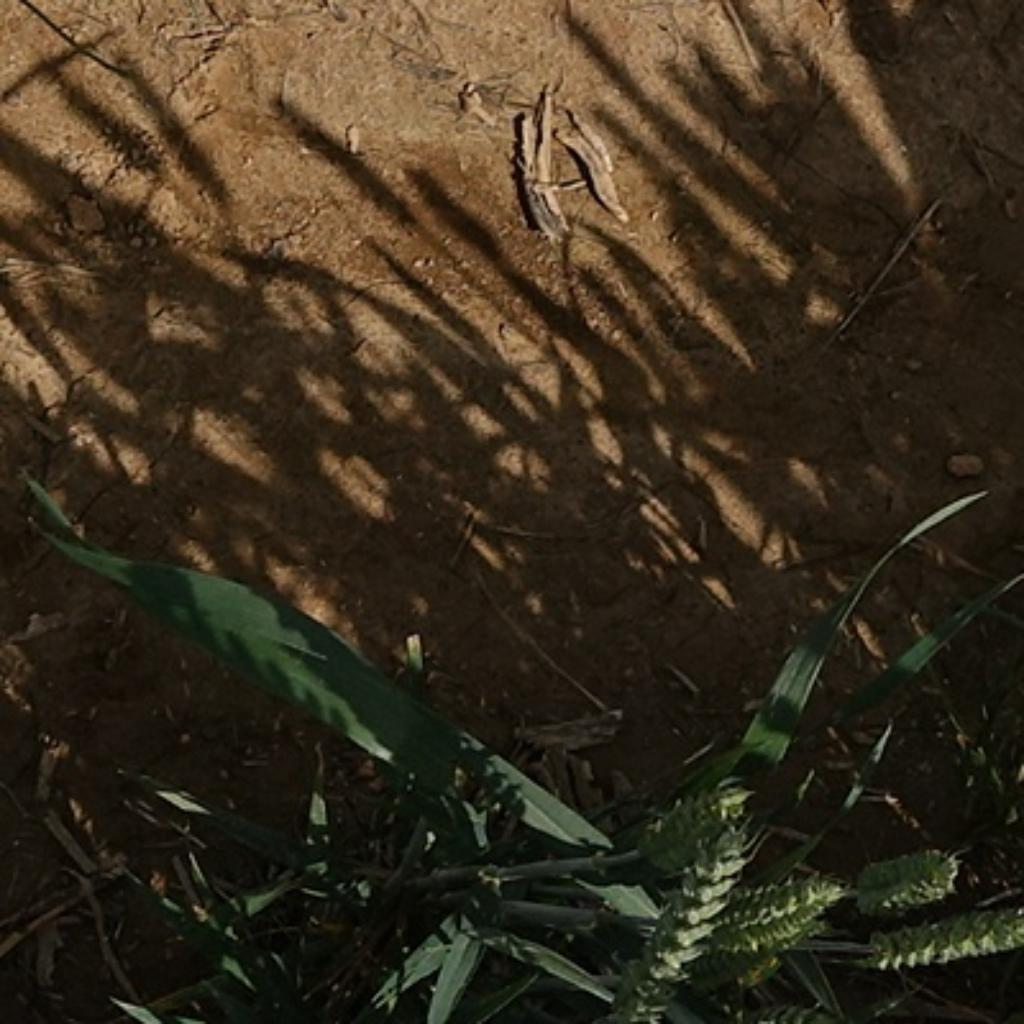0-0: (626, 831, 757, 1024), (701, 862, 847, 952), (633, 776, 756, 870), (854, 912, 1024, 976), (847, 843, 962, 909)
